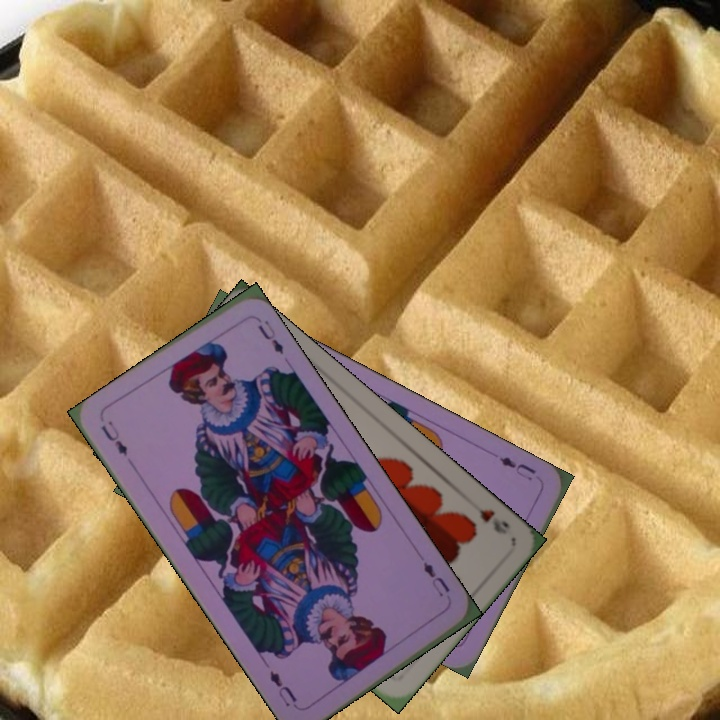EU: (419, 558, 453, 600), (96, 417, 130, 459), (495, 452, 539, 484)
H9: (465, 496, 511, 537)
